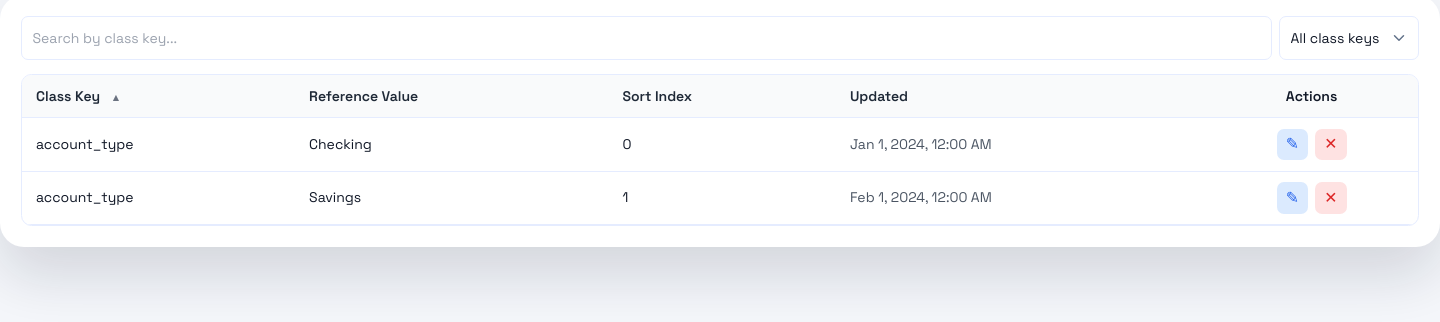
Test case: ReferenceDataTable interactions › handleStartEdit: clicking edit button enters edit mode
The image size is (1440, 322).
Step 1. Click the button with class "btn-icon-edit" in the row of "Checking" → (1292, 144), box [1276,128,1308,160]
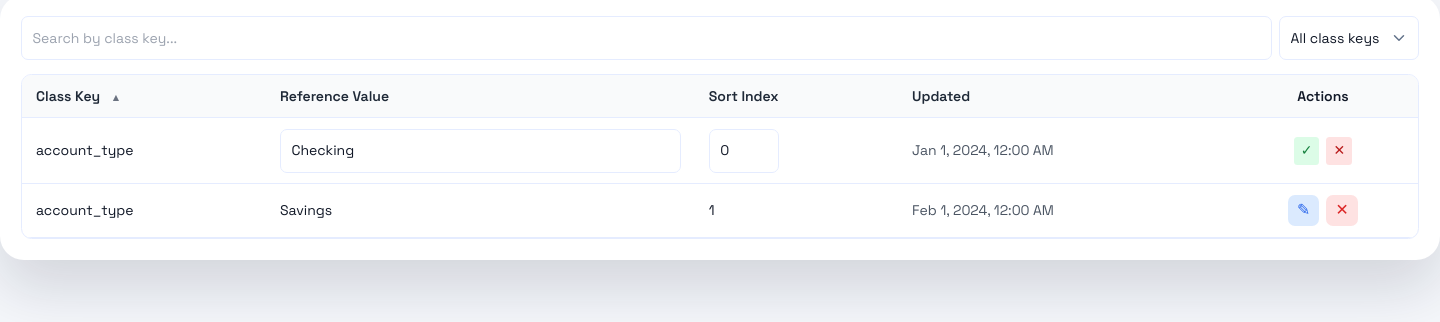
expect the 2nd field with class "form-input" is shown: met, box [280,128,681,172]
